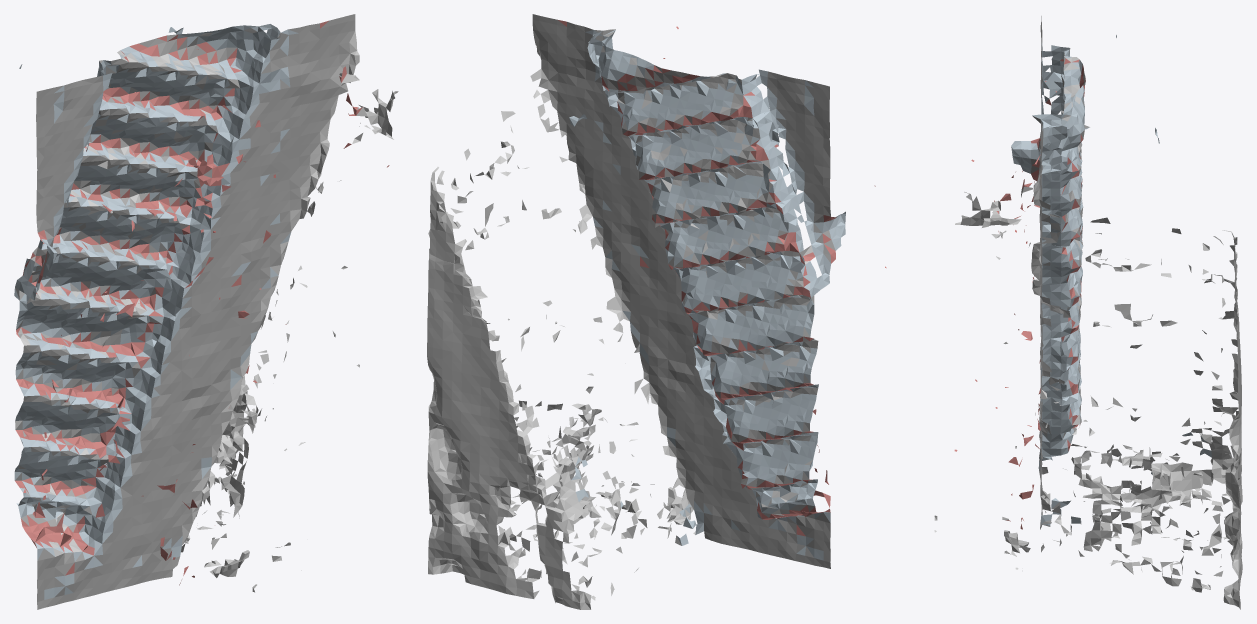
Rendered from B173-뜬면-2__nojudge_ALS_s0__before.glb.
3 views of the same model, side by side, from view 1: azimuth 30°, elevation 25°; view 2: azimuth 150°, elevation 25°; view 3: azimuth 270°, elevation 25° (orthographic). The views are drawn at different scales.
Bounding box in the file's own units: 26.19 × 40.44 × 29.34.
